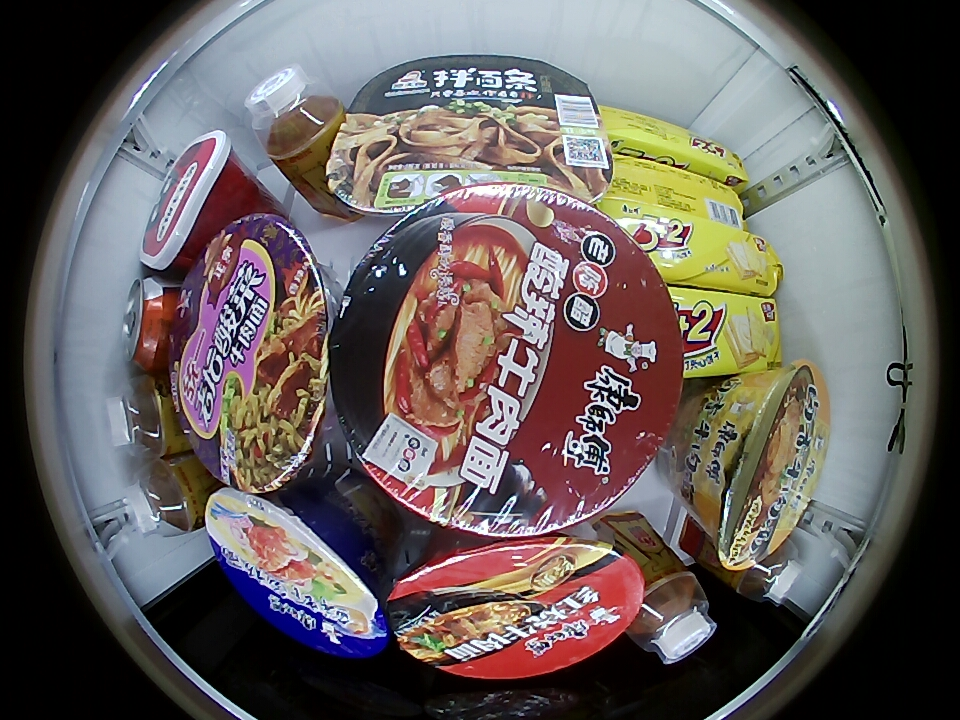3+2-2: (609, 204, 784, 293), (601, 107, 746, 184), (606, 156, 744, 228), (680, 291, 781, 377)
dongpeng-b: (244, 65, 344, 170), (627, 566, 718, 664), (121, 459, 198, 538), (104, 375, 174, 457), (733, 544, 805, 607)
gudasao: (328, 56, 615, 213)
hongshaoniurou: (384, 536, 643, 679)
jianlibao: (121, 277, 175, 371)
laotansuancai: (177, 213, 336, 495)
luxiangniurou: (695, 365, 830, 570)
niudufen: (140, 131, 240, 272)
suanlaniurou: (335, 185, 684, 537)
xianxiayuban: (205, 489, 392, 659)
